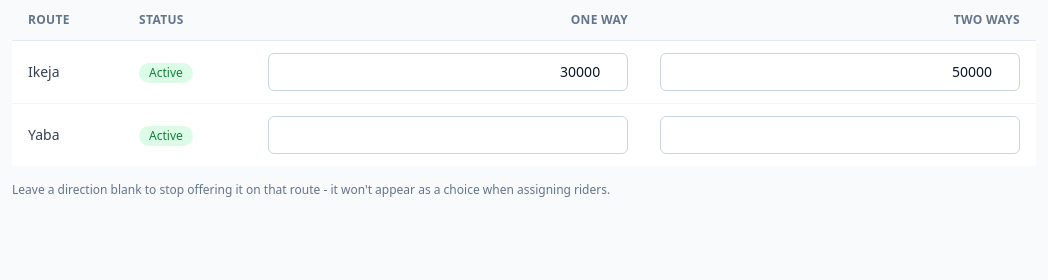
Test case: TransportFareTable › discarding reverts every edited field
Step 1. Replace the text in the number field named "Ikeja one-way fare" with "99999" → [448, 72], box [268,53,628,91]
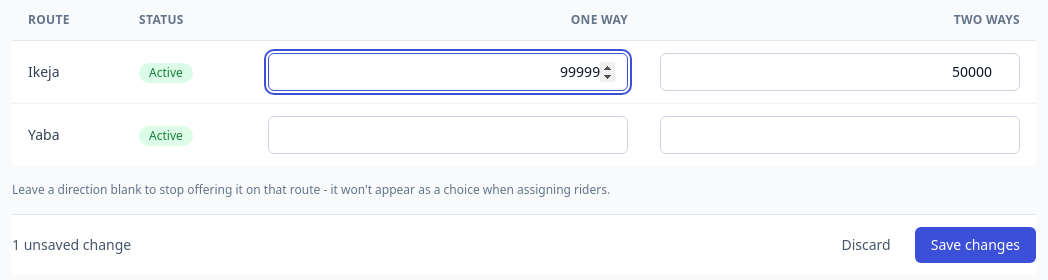
Step 2. Click the button "Discard" → [866, 245], box [826,227,907,263]
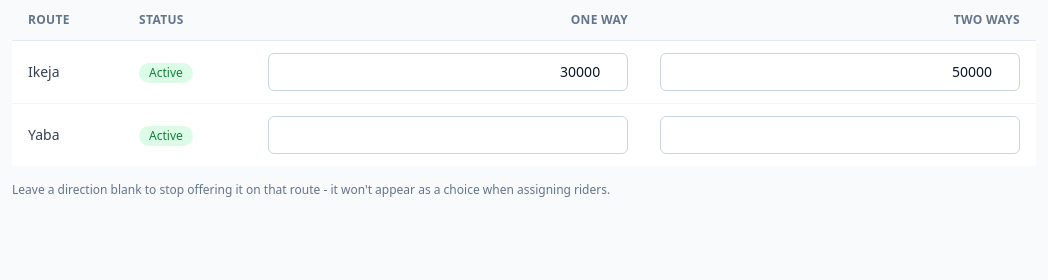
Expected: the number field named "Ikeja one-way fare" holds "30000", [268,53,628,91]
Expected: the text "unsaved change" is gone
